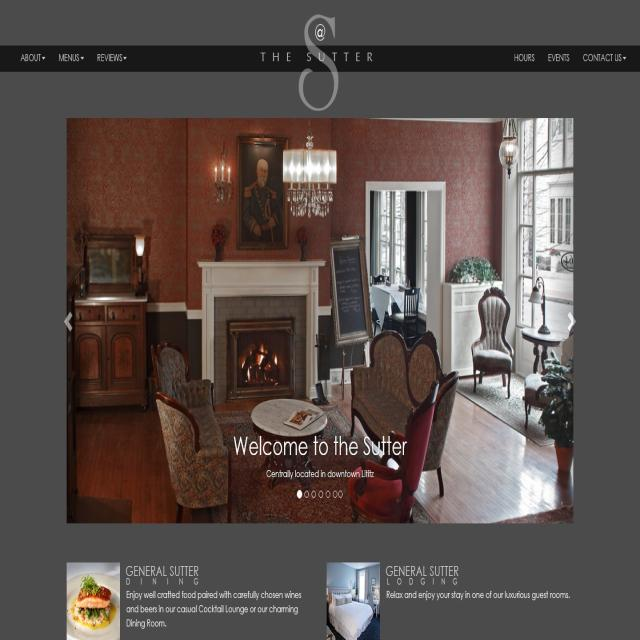button: (580, 45, 630, 69), (92, 46, 134, 69), (53, 48, 88, 70), (17, 47, 49, 71), (543, 47, 575, 68), (510, 47, 538, 69)
heading: (229, 428, 412, 461), (261, 46, 375, 74), (124, 560, 202, 588), (384, 563, 462, 590)
image: (69, 117, 576, 525), (298, 10, 342, 116), (66, 565, 120, 640)
text: (125, 585, 304, 633), (386, 588, 571, 608), (264, 466, 376, 480)
